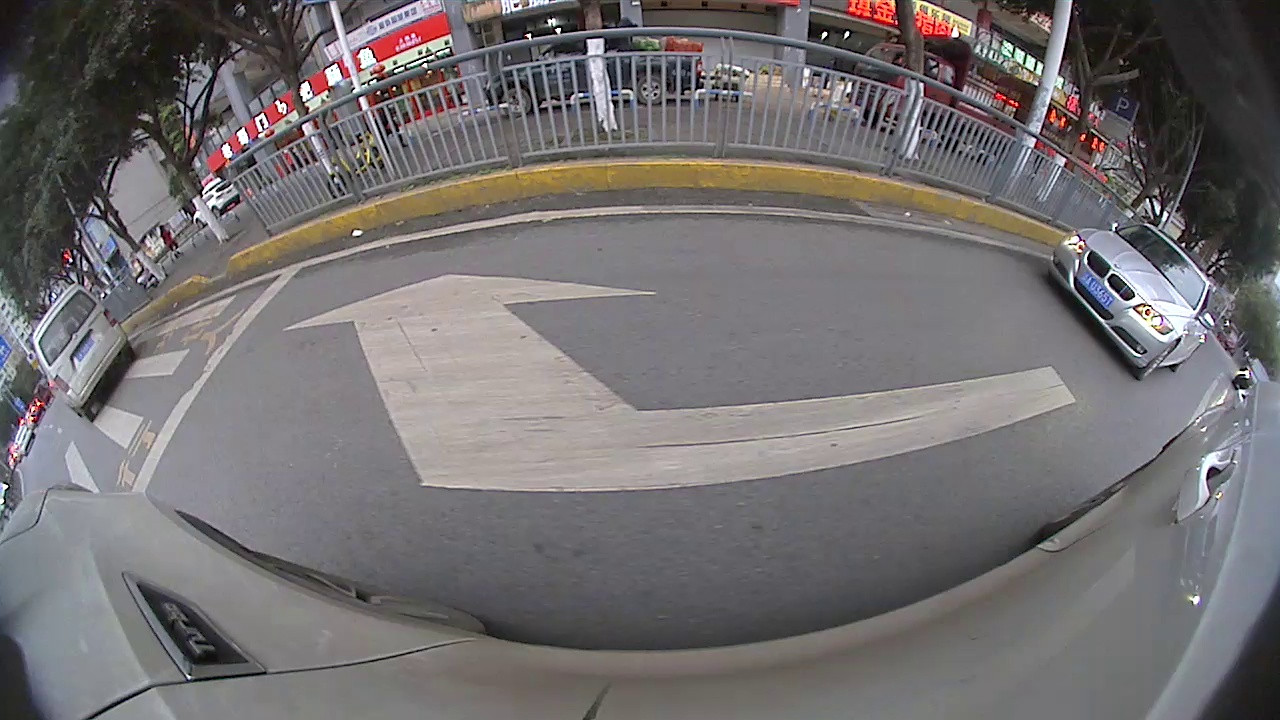car: (1042, 215, 1223, 385), (482, 27, 707, 127), (27, 279, 140, 421)
front: (500, 87, 536, 120)
rear: (637, 76, 673, 108)
rider: (319, 134, 392, 201)
truck: (847, 32, 1050, 163)
